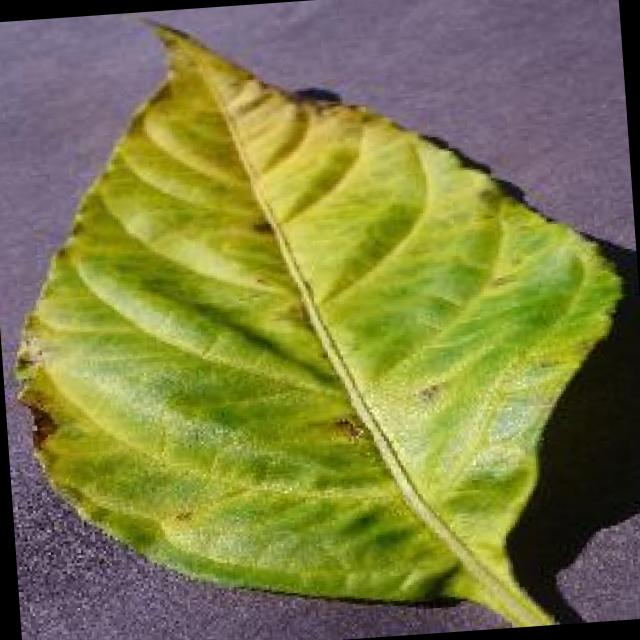Chilli_Bacterial_Spot: (0, 0, 640, 640), (23, 401, 61, 453), (8, 332, 46, 382), (326, 410, 366, 448), (406, 376, 446, 412), (244, 210, 274, 240)
